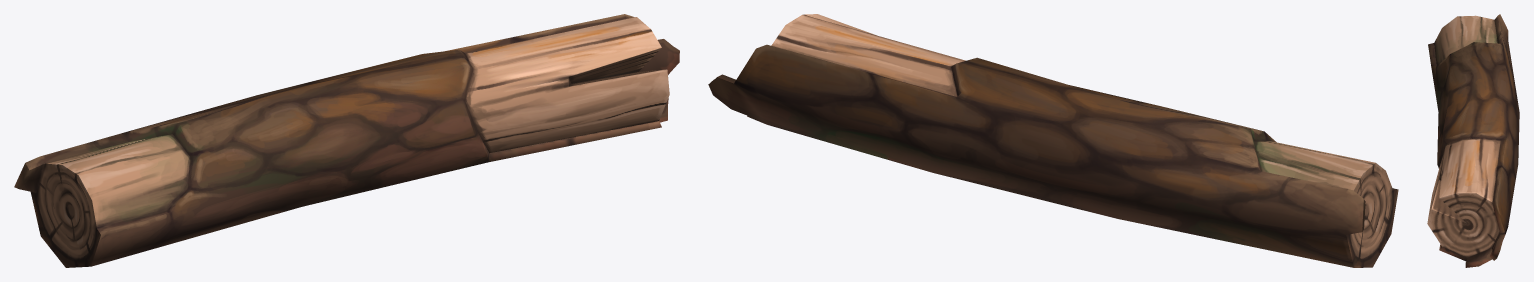
The model's file is timber01.FBX.
3 views of the same model, side by side, from view 1: azimuth 30°, elevation 25°; view 2: azimuth 150°, elevation 25°; view 3: azimuth 270°, elevation 25° (orthographic). The views are drawn at different scales.
Visible parts, largest first — view 1: timber01; view 2: timber01; view 3: timber01.
Part boxes in pixels (bbox=[...]): timber01: bbox=[14, 14, 679, 267]; timber01: bbox=[708, 14, 1398, 267]; timber01: bbox=[1427, 14, 1519, 267].
Bounding box in the file's own units: 54.26 × 8.9 × 10.12.
